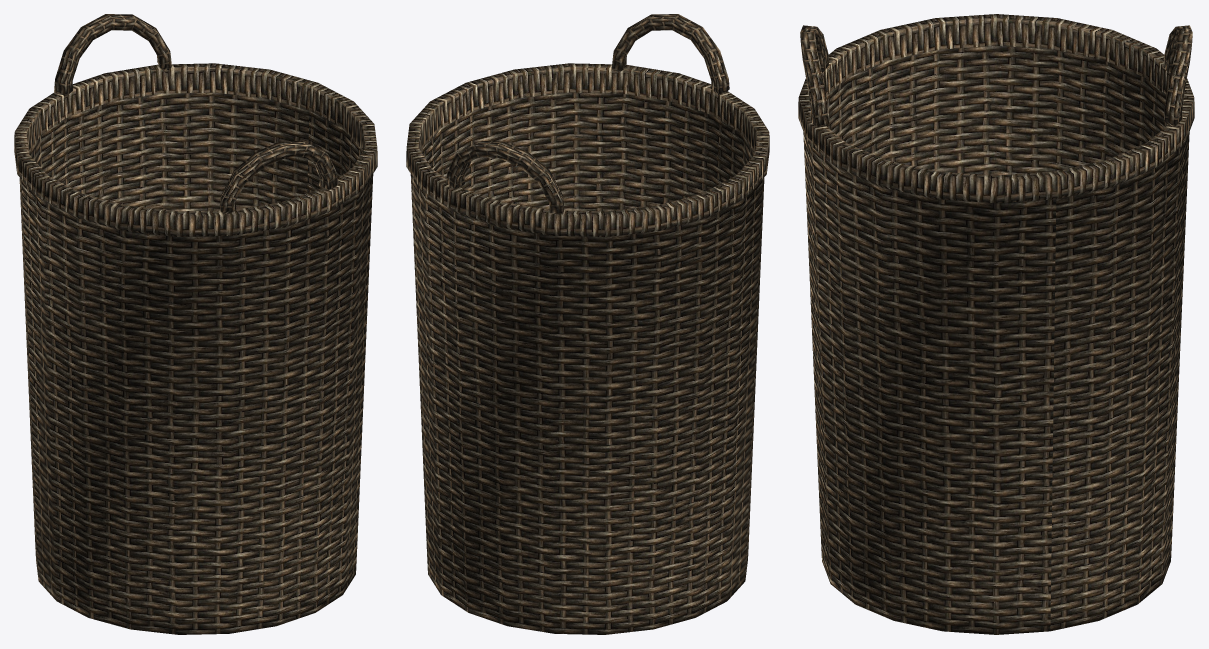
File: Basket2.fbx
The picture shows the model from 3 angles, left to right: view 1: azimuth 30°, elevation 25°; view 2: azimuth 150°, elevation 25°; view 3: azimuth 270°, elevation 25°; orthographic projection. The views are drawn at different scales.
Visible parts, largest first — view 1: polySurface1614; view 2: polySurface1614; view 3: polySurface1614.
Part boxes in pixels (left/top/right/bottom): polySurface1614: left=14, top=14, right=377, bottom=634; polySurface1614: left=406, top=14, right=769, bottom=634; polySurface1614: left=798, top=14, right=1194, bottom=634.
Bounding box in the file's own units: 0.6416 × 0.9435 × 0.6416.
